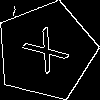X: (21, 26, 78, 83)
